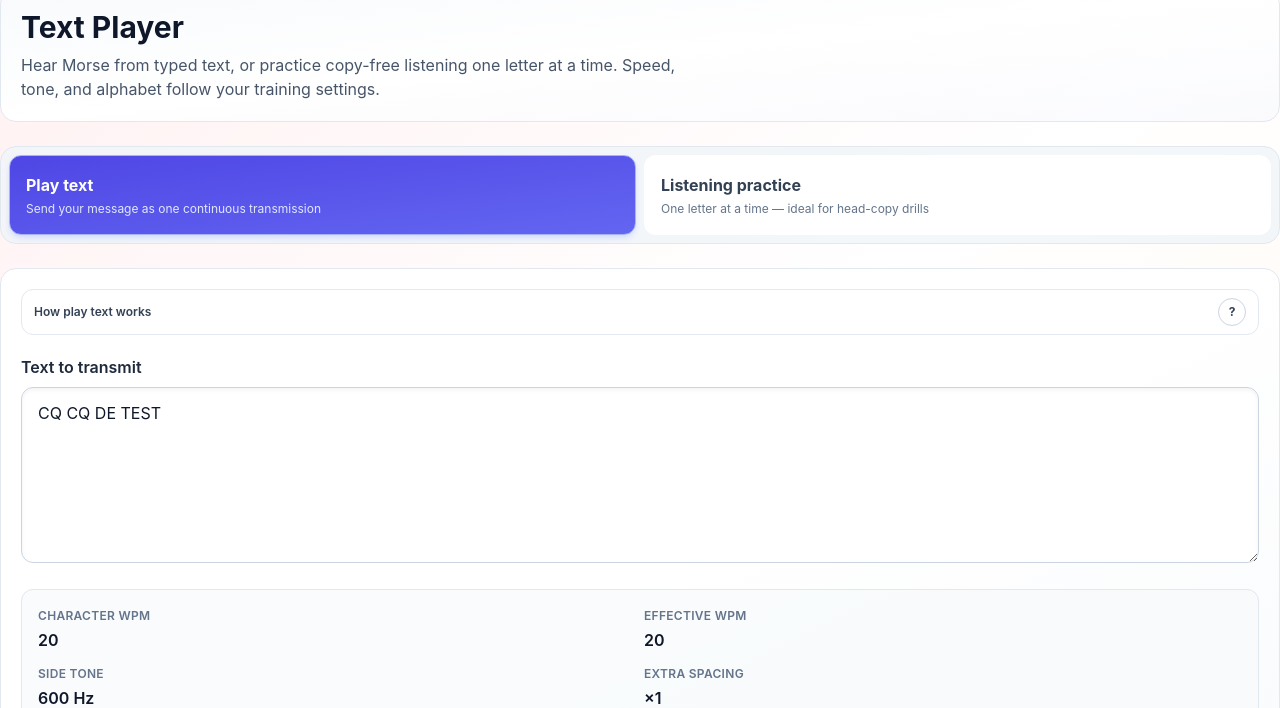
Test: TextPlayer › should show listening practice panel and hide text entry when random letters enabled
Click the tab "Listening practice": {"x": 731, "y": 185} [644,155,1271,235]
(page scrolled)
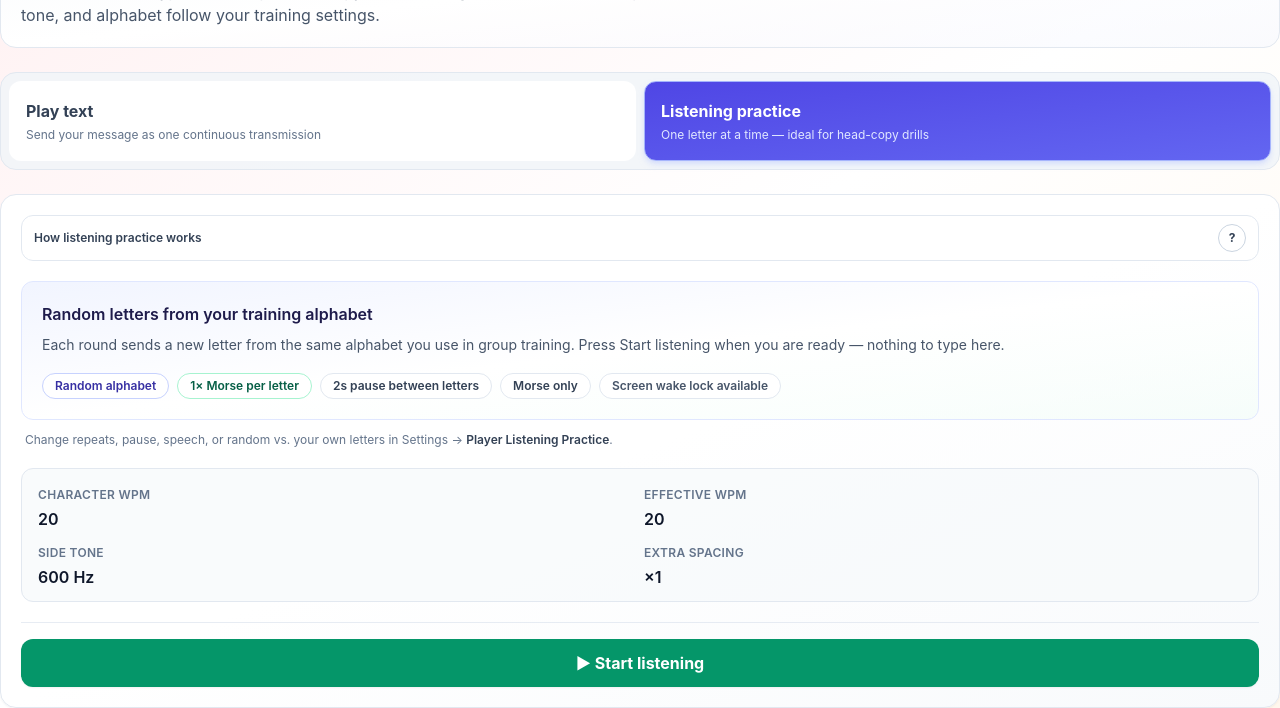
Result: the text "Random letters from your training alphabet" is shown at [42,304,373,324]
Result: the text "1× Morse per letter" is shown at [177,373,312,399]
Result: the button "▶ Start listening" is shown at [21,639,1259,687]
